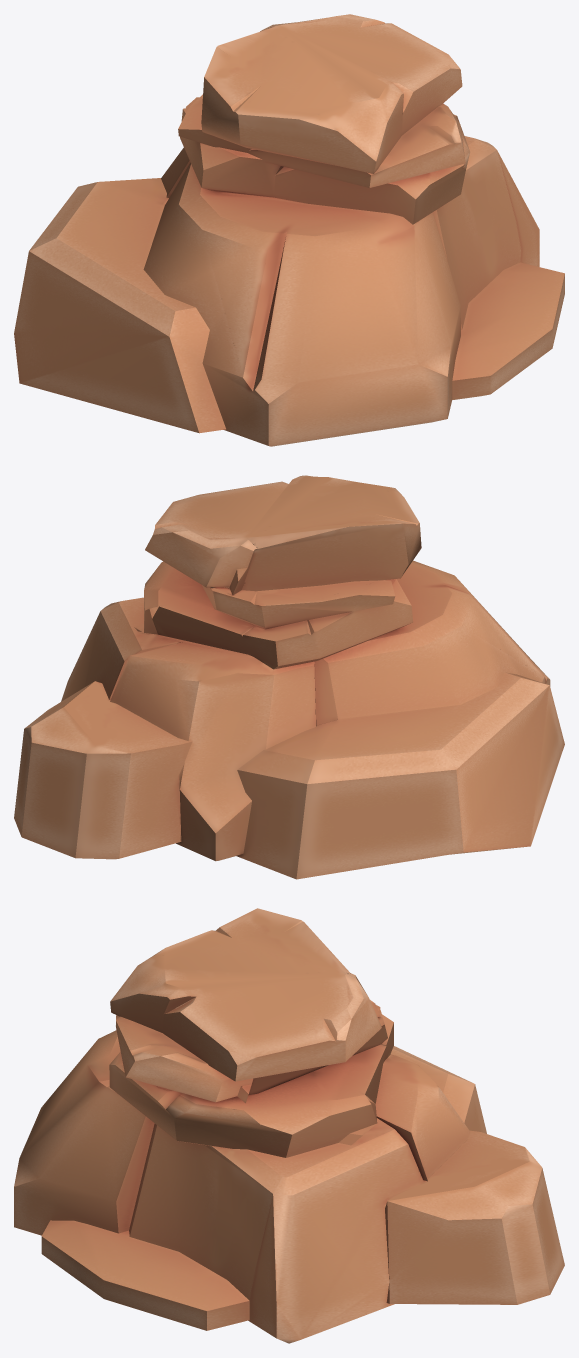
The model's file is desert_rock_13.glb.
3 views of the same model, one above another, from view 1: azimuth 30°, elevation 25°; view 2: azimuth 150°, elevation 25°; view 3: azimuth 270°, elevation 25° (orthographic). The views are drawn at different scales.
Visible parts, largest first — view 1: Rock_13_Rock_13_0; view 2: Rock_13_Rock_13_0; view 3: Rock_13_Rock_13_0.
Part boxes in pixels (box(x1,y1,x2,y2)): Rock_13_Rock_13_0: box(14, 14, 564, 446); Rock_13_Rock_13_0: box(14, 475, 564, 879); Rock_13_Rock_13_0: box(14, 908, 564, 1343).
Bounding box in the file's own units: 3.6 × 2 × 3.54.
1 material, 1 textured.
